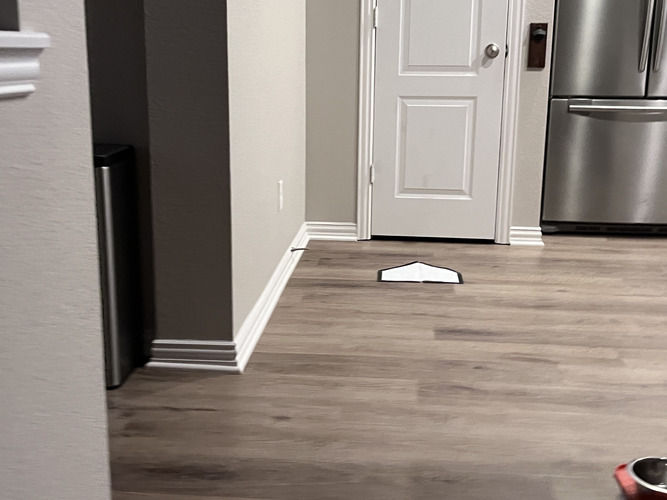homeplate: (377, 259, 464, 284)
